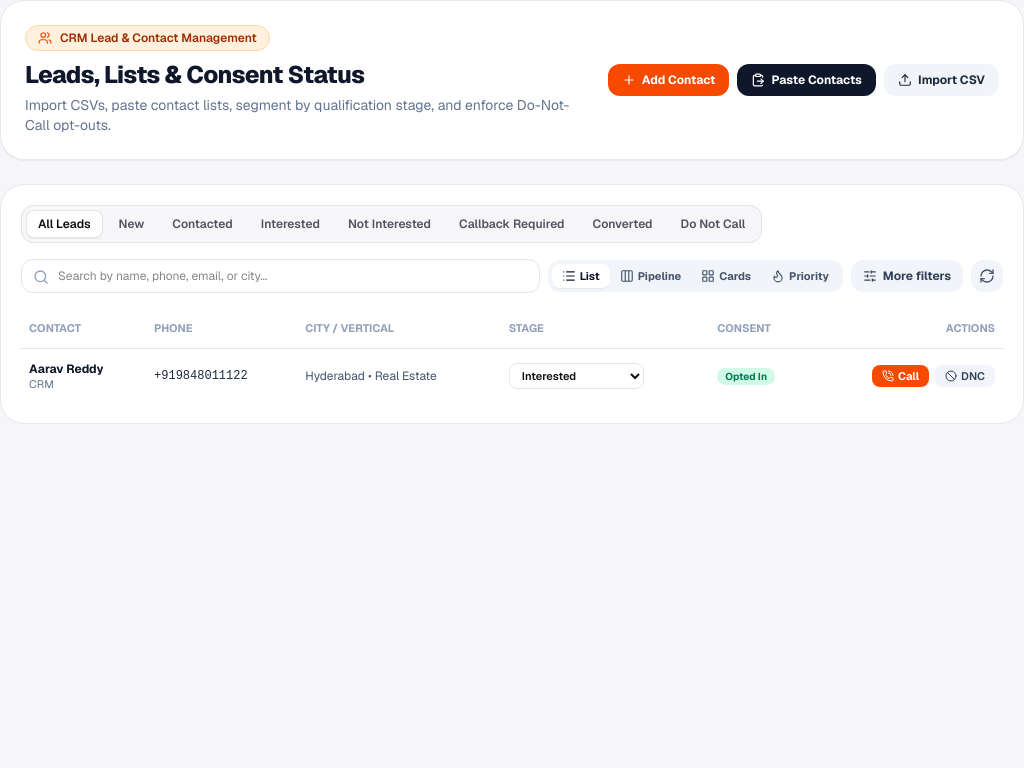
Test: Trivaana AI Core UI Components › renders LeadManagementPanel 4-way view switcher, More filters, and fetched contacts
Expected: the text "Aarav Reddy" is shown, [29,361,104,377]
Click the button "Pipeline" at (650, 276), box [610,264,691,288]
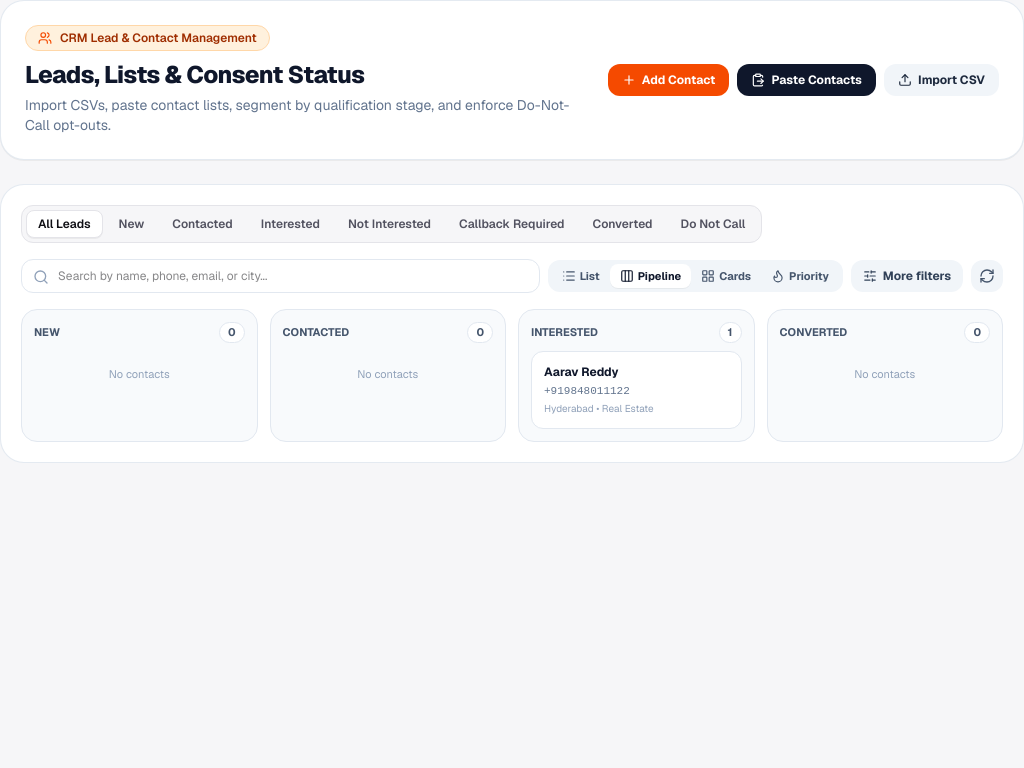
Expected: the text "+919848011122" is shown, [544,385,630,397]
Click the button "More filters" at (907, 276), box [851,260,963,292]
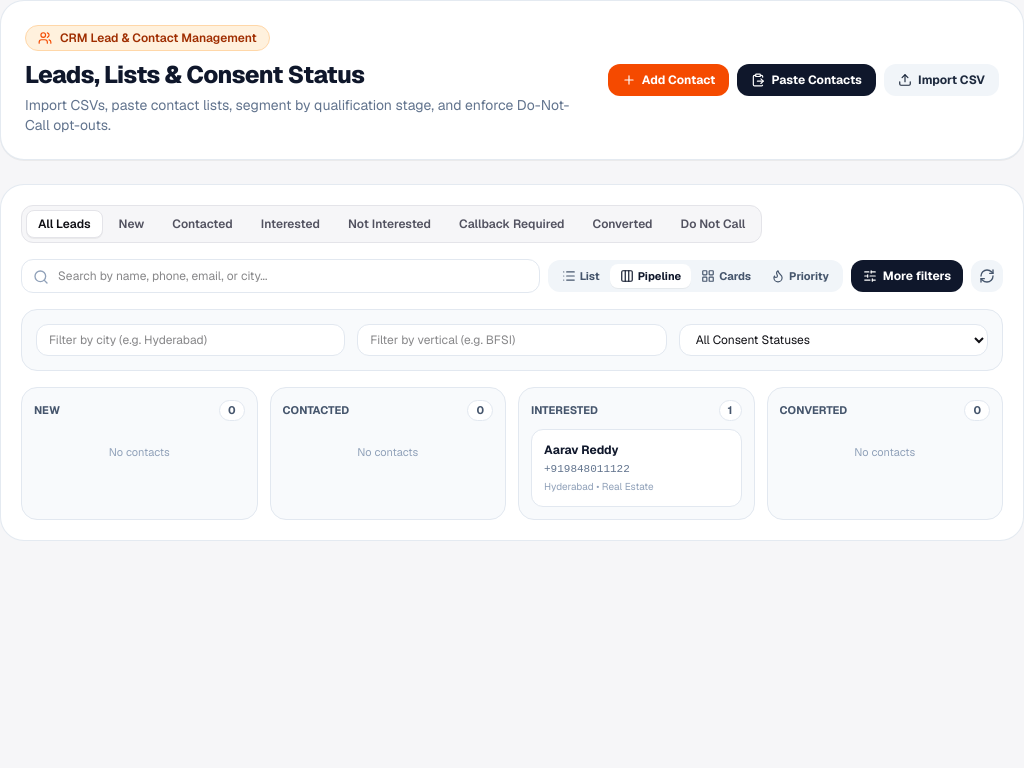
Expected: the field with placeholder "Filter by city (e.g. Hyderabad)" is shown, [36,324,345,356]
